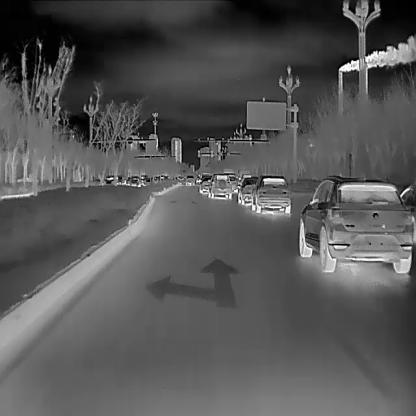car: (298, 173, 412, 274), (250, 174, 290, 213), (236, 174, 261, 205), (207, 171, 232, 199), (223, 170, 237, 192), (197, 176, 211, 193), (127, 175, 142, 187), (101, 173, 115, 185), (184, 174, 194, 185)
